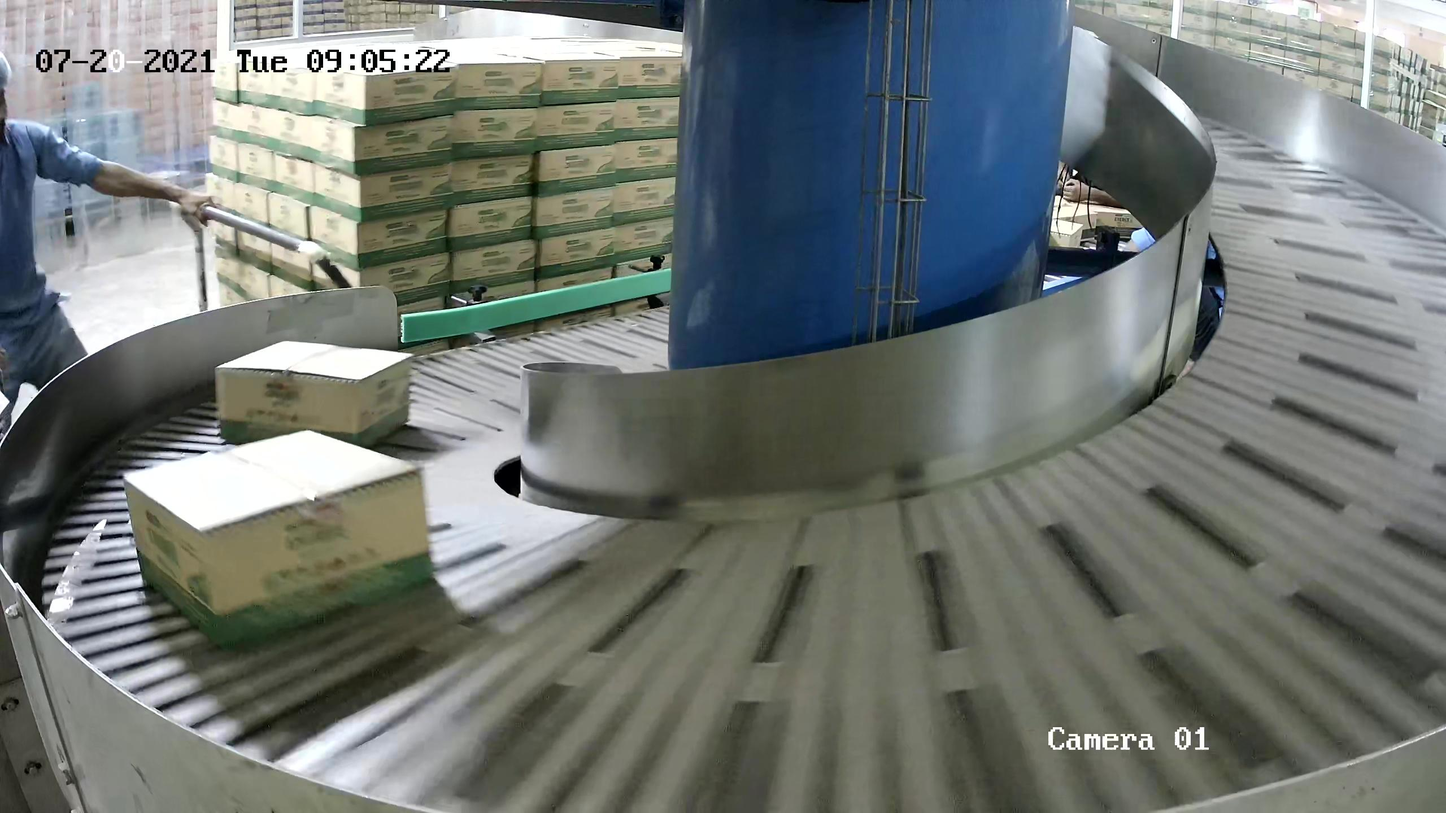Box: (123, 429, 437, 649), (214, 339, 412, 451)
